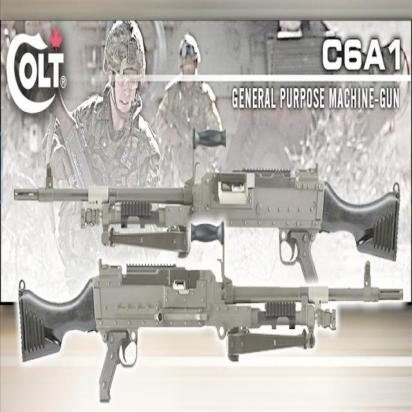Gun: (16, 260, 402, 406), (25, 157, 402, 263)
